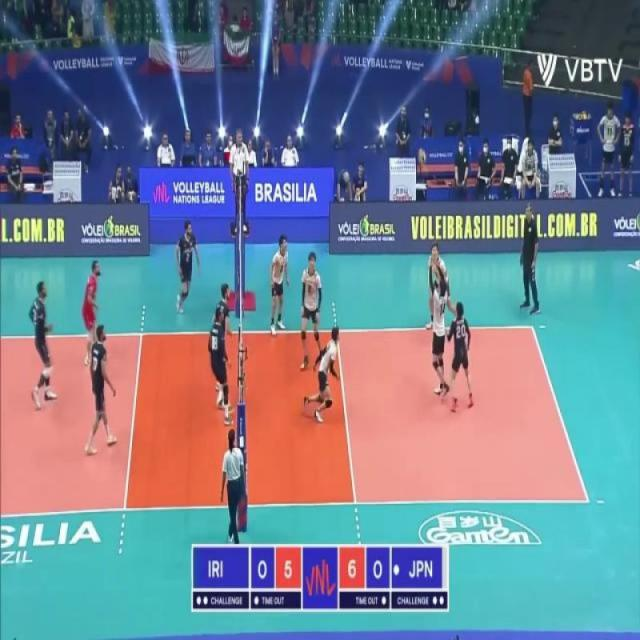volleyball: (417, 147, 427, 167), (580, 110, 587, 120), (574, 114, 582, 120)
